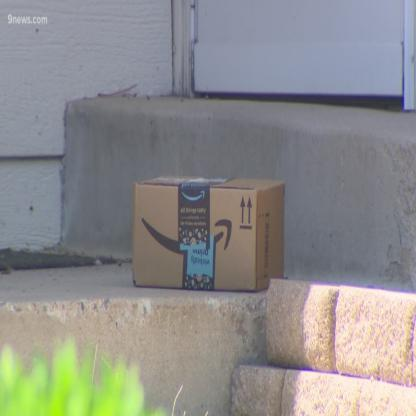package: (129, 165, 287, 298)
